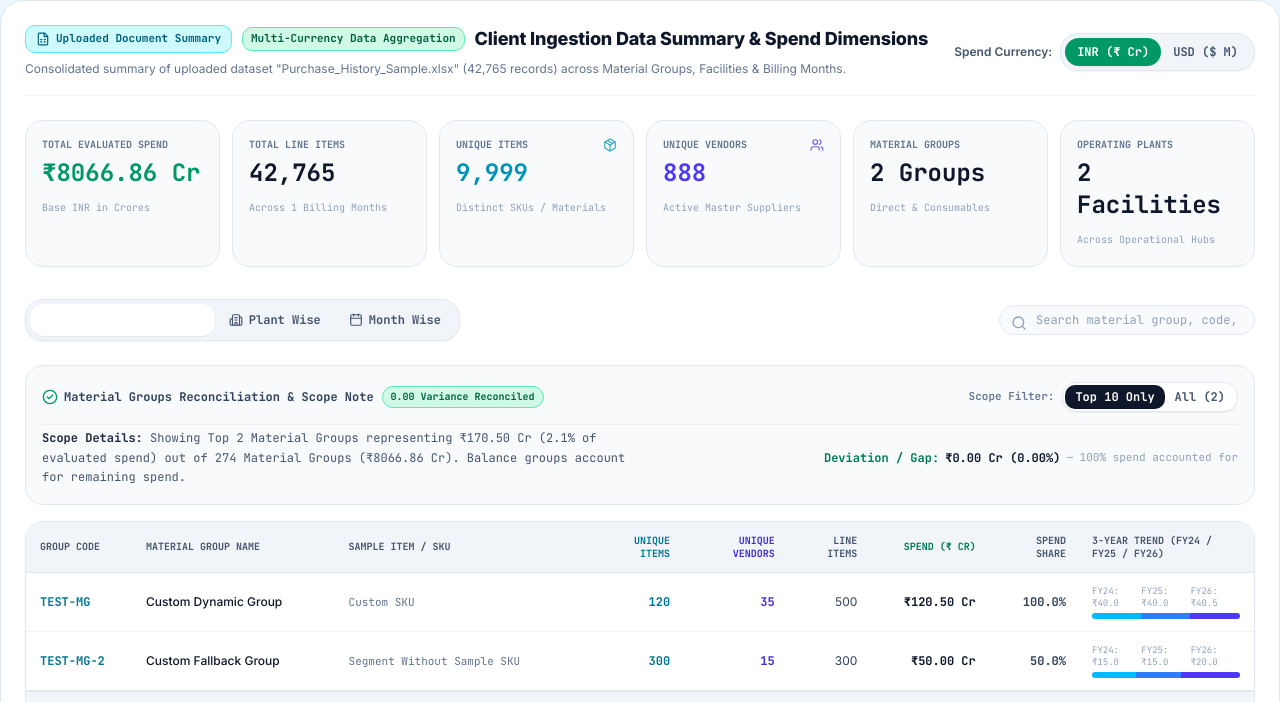
Scenario: DocumentSummaryView Component › renders with custom dynamic summaries passed via props
Expected: the text "Custom Dynamic Group" is shown, [132,573,334,632]
Expected: the text "TEST-MG" is shown, [26,573,132,632]
Switch to Plant tab with fallback counts
Click the button "Plant Wise".
click(275, 320)  # box [215,304,335,336]
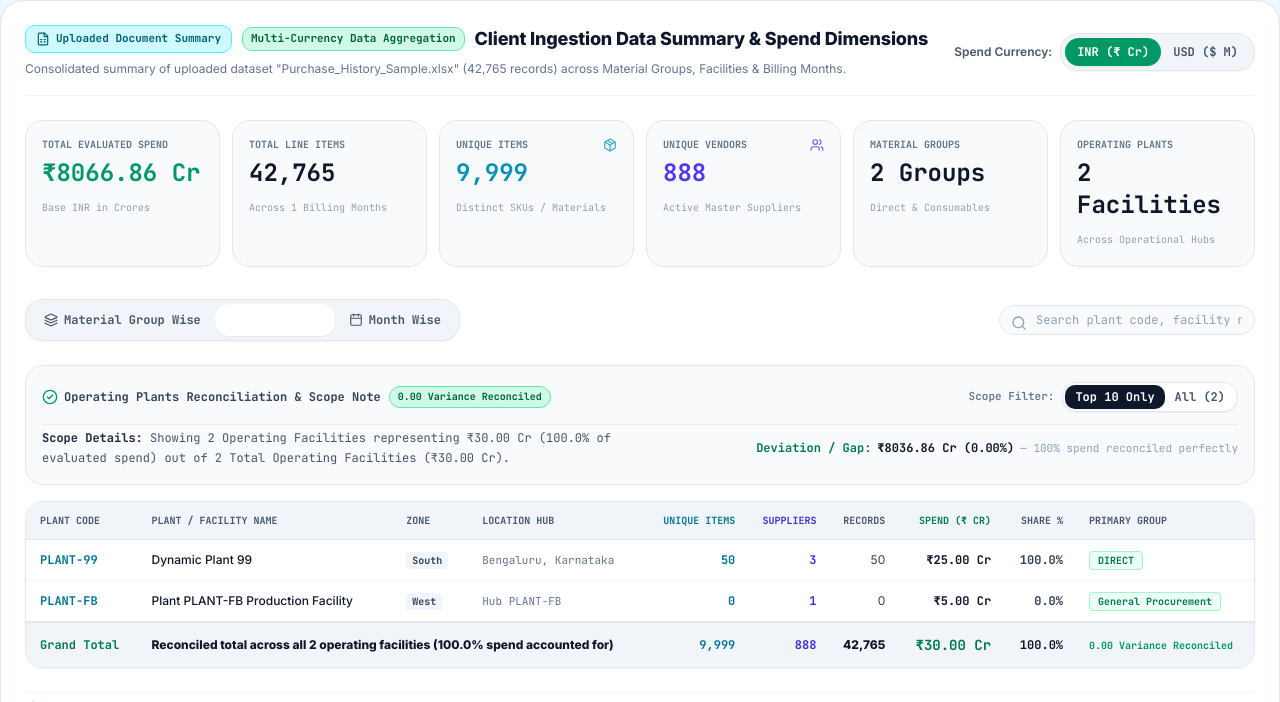
Now the text "Dynamic Plant 99" is shown, box [138,540,394,581]
Now the text "PLANT-FB" is shown, box [26,581,138,622]
Switch to Month tab with negative MoM change and fallback counts
Click the button "Month Wise".
click(395, 320)  # box [335,304,455,336]
(page scrolled)
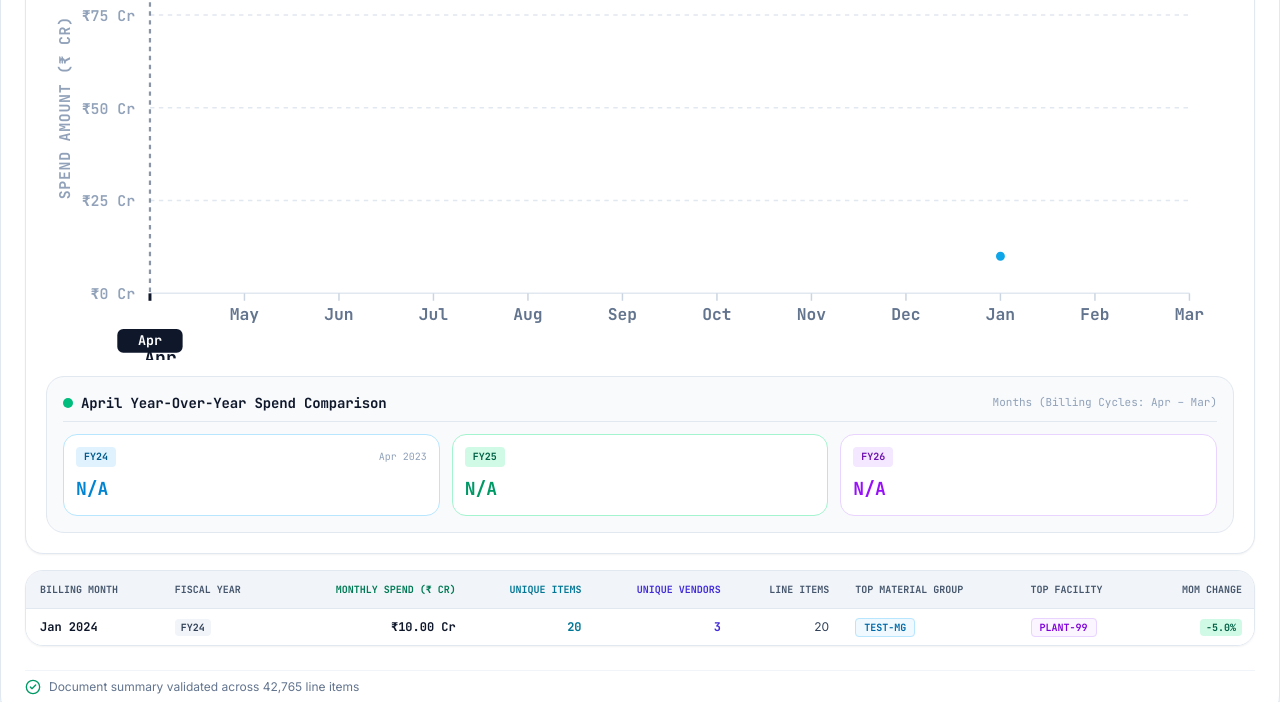
Now the text "-5.0%" is shown, box [1200,619,1242,636]
